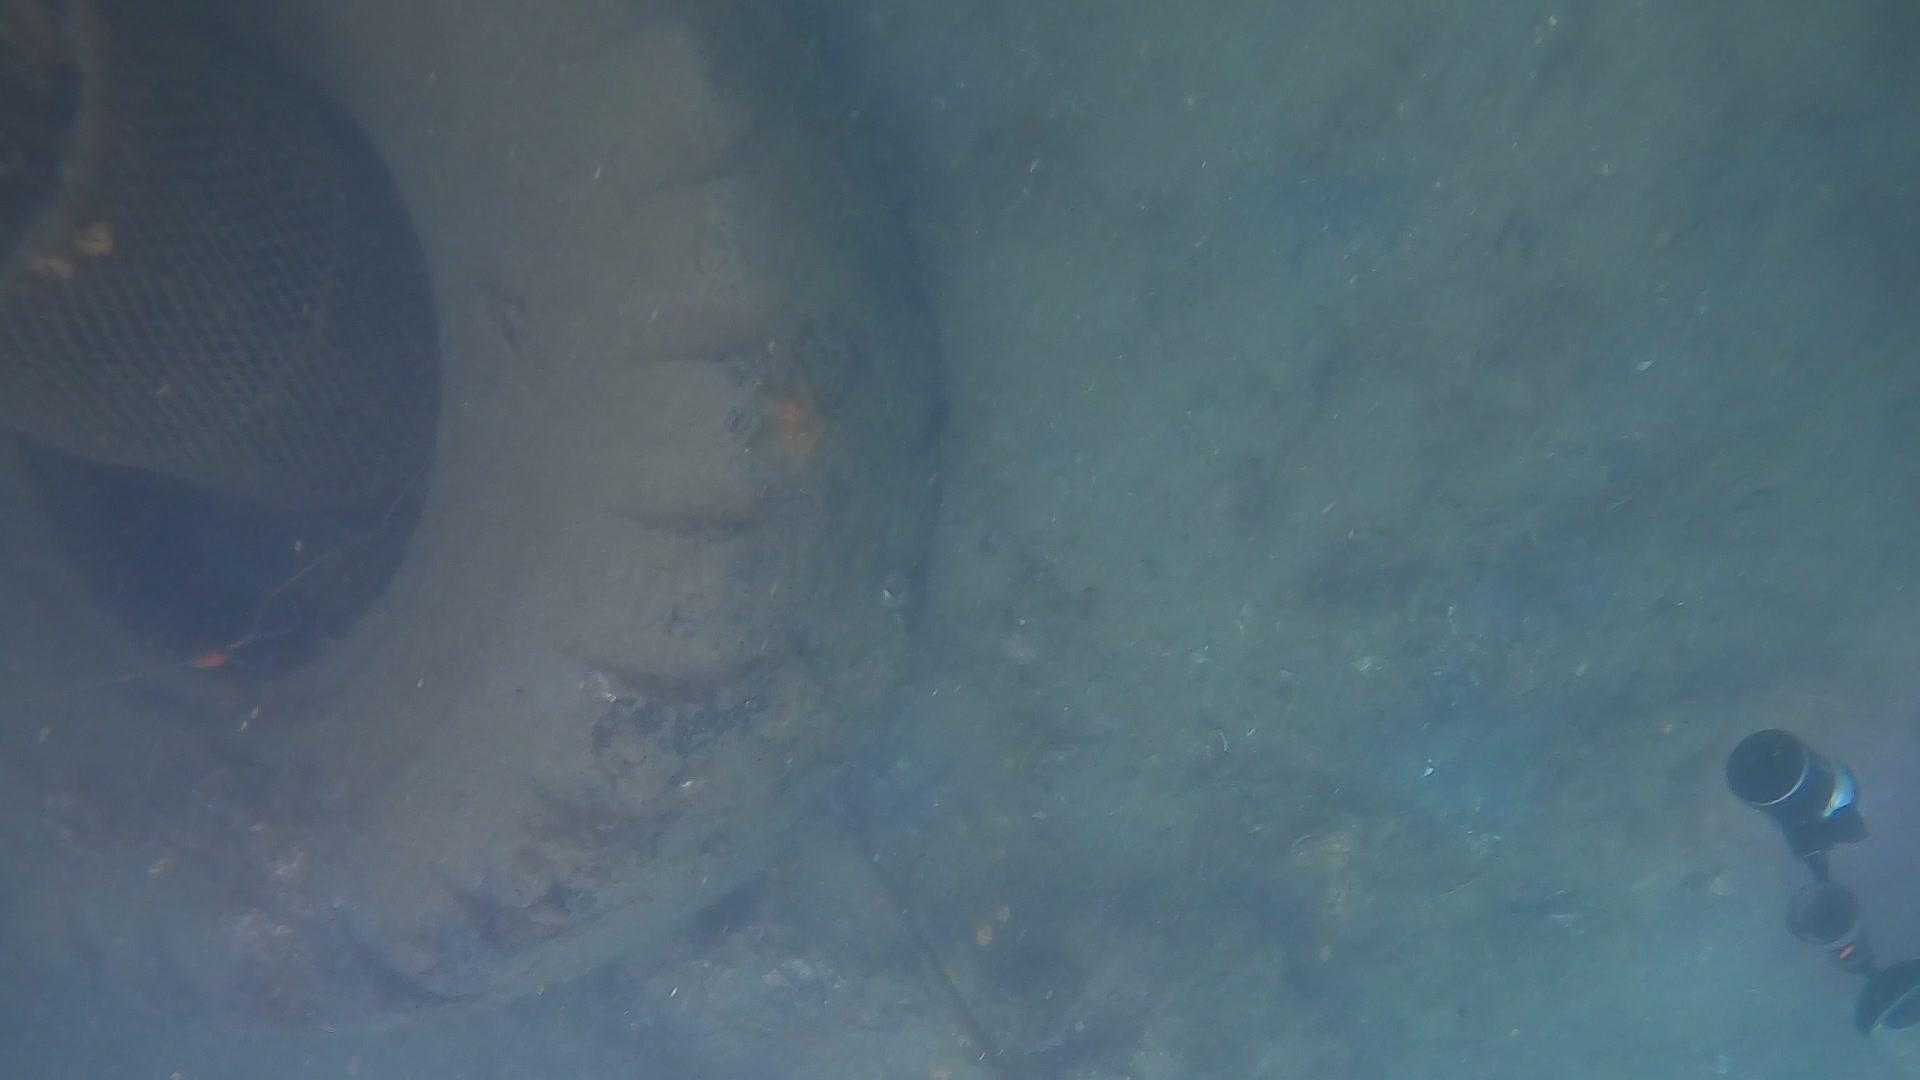spring fish trap: (0, 0, 450, 506)
tire: (0, 3, 949, 1038)
